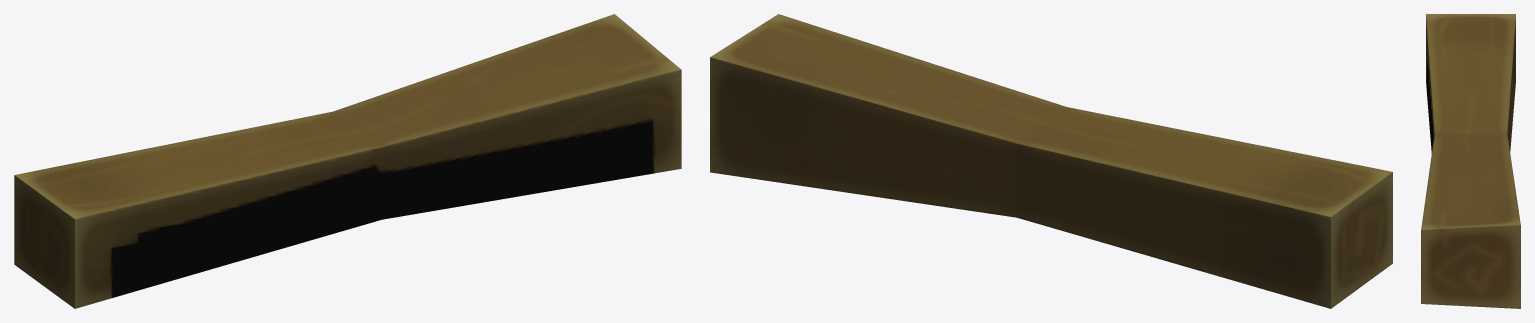
The model's file is SM_wood_plank2.fbx.
3 renders of one model, left to right at view 1: azimuth 30°, elevation 25°; view 2: azimuth 150°, elevation 25°; view 3: azimuth 270°, elevation 25°, orthographic. The views are drawn at different scales.
Visible parts, largest first — view 1: floor_big.037; view 2: floor_big.037; view 3: floor_big.037.
Boxes of the visible parts, bbox=[...] form: floor_big.037: bbox=[14, 14, 681, 308]; floor_big.037: bbox=[710, 14, 1392, 308]; floor_big.037: bbox=[1421, 14, 1520, 308].
Bounding box in the file's own units: 112 × 19.94 × 21.47.
Materials: 1 (1 with a texture image).
